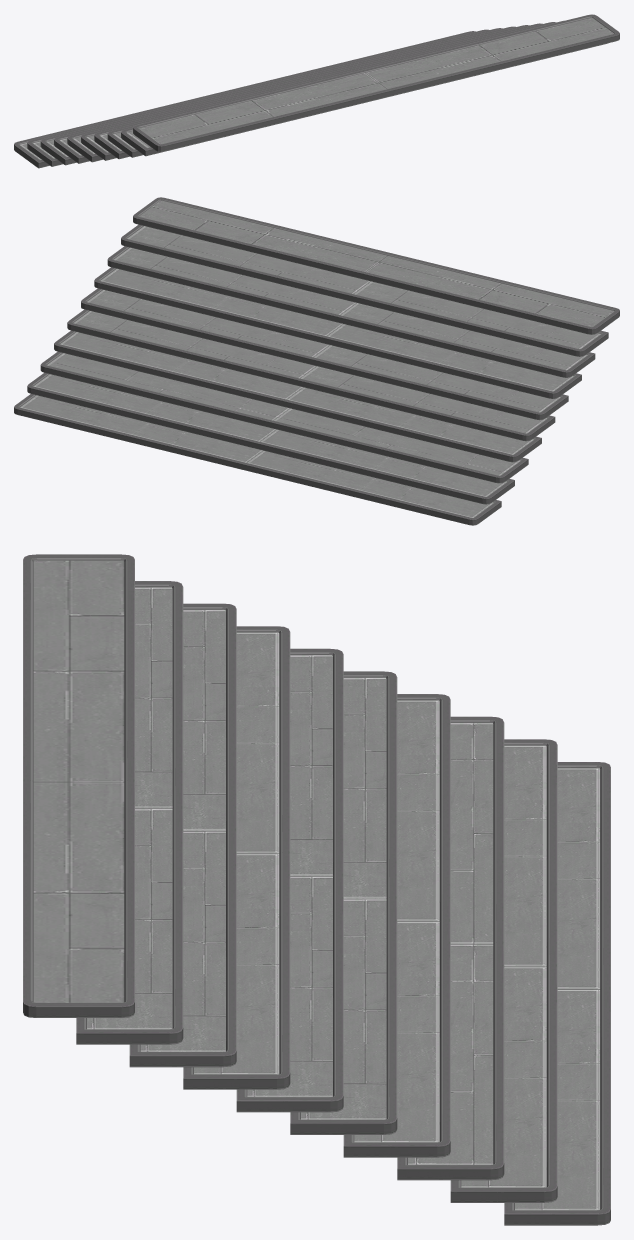
The model's file is Club_Stairs_01.FBX.
The picture shows the model from 3 angles, top to bottom: view 1: azimuth 30°, elevation 25°; view 2: azimuth 150°, elevation 25°; view 3: azimuth 270°, elevation 25°; orthographic projection. The views are drawn at different scales.
Visible parts, largest first — view 1: Club_Stairs_01; view 2: Club_Stairs_01; view 3: Club_Stairs_01.
Boxes of the visible parts, x1,y1,x2,y2 form: Club_Stairs_01: [14, 14, 619, 168]; Club_Stairs_01: [14, 197, 619, 525]; Club_Stairs_01: [23, 554, 610, 1225].
Bounding box in the file's own units: 6 × 1.36 × 3.3.
